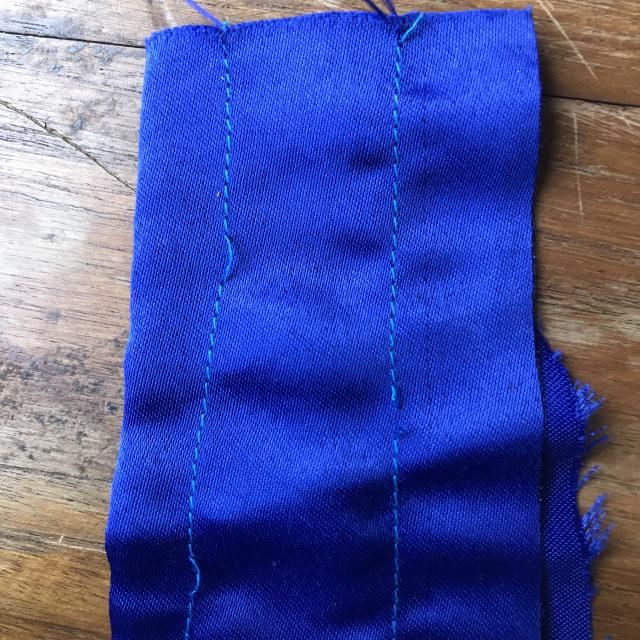broken: (363, 368, 423, 466)
good: (183, 345, 231, 442)
skip: (206, 205, 256, 301), (163, 542, 232, 608)
